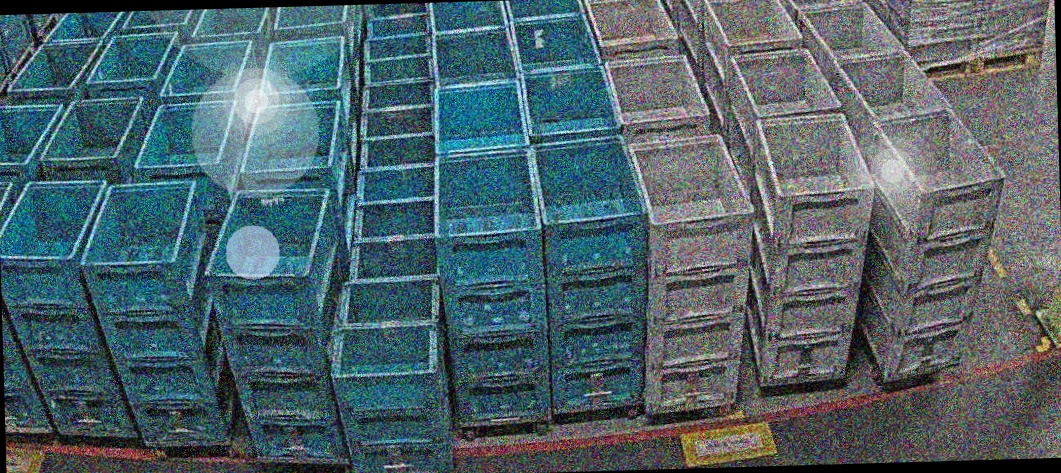4G: (854, 106, 1013, 383), (739, 114, 880, 385), (628, 132, 761, 412)
B4: (78, 179, 238, 444), (201, 187, 345, 462), (0, 178, 140, 442), (532, 134, 654, 414), (433, 148, 549, 428)
B8: (328, 278, 452, 473)
